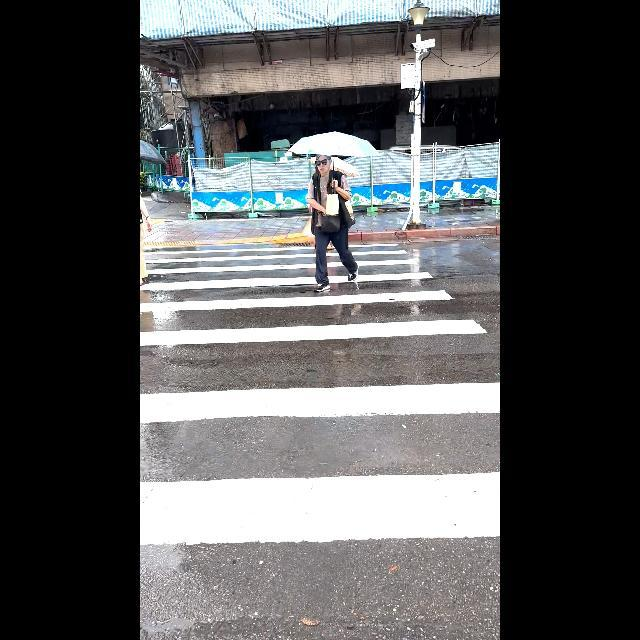sidewalk: (140, 231, 498, 640)
